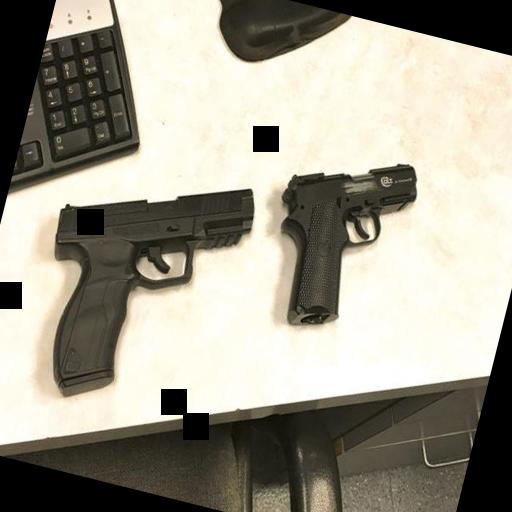Handgun: (15, 140, 263, 422), (250, 132, 428, 348)
